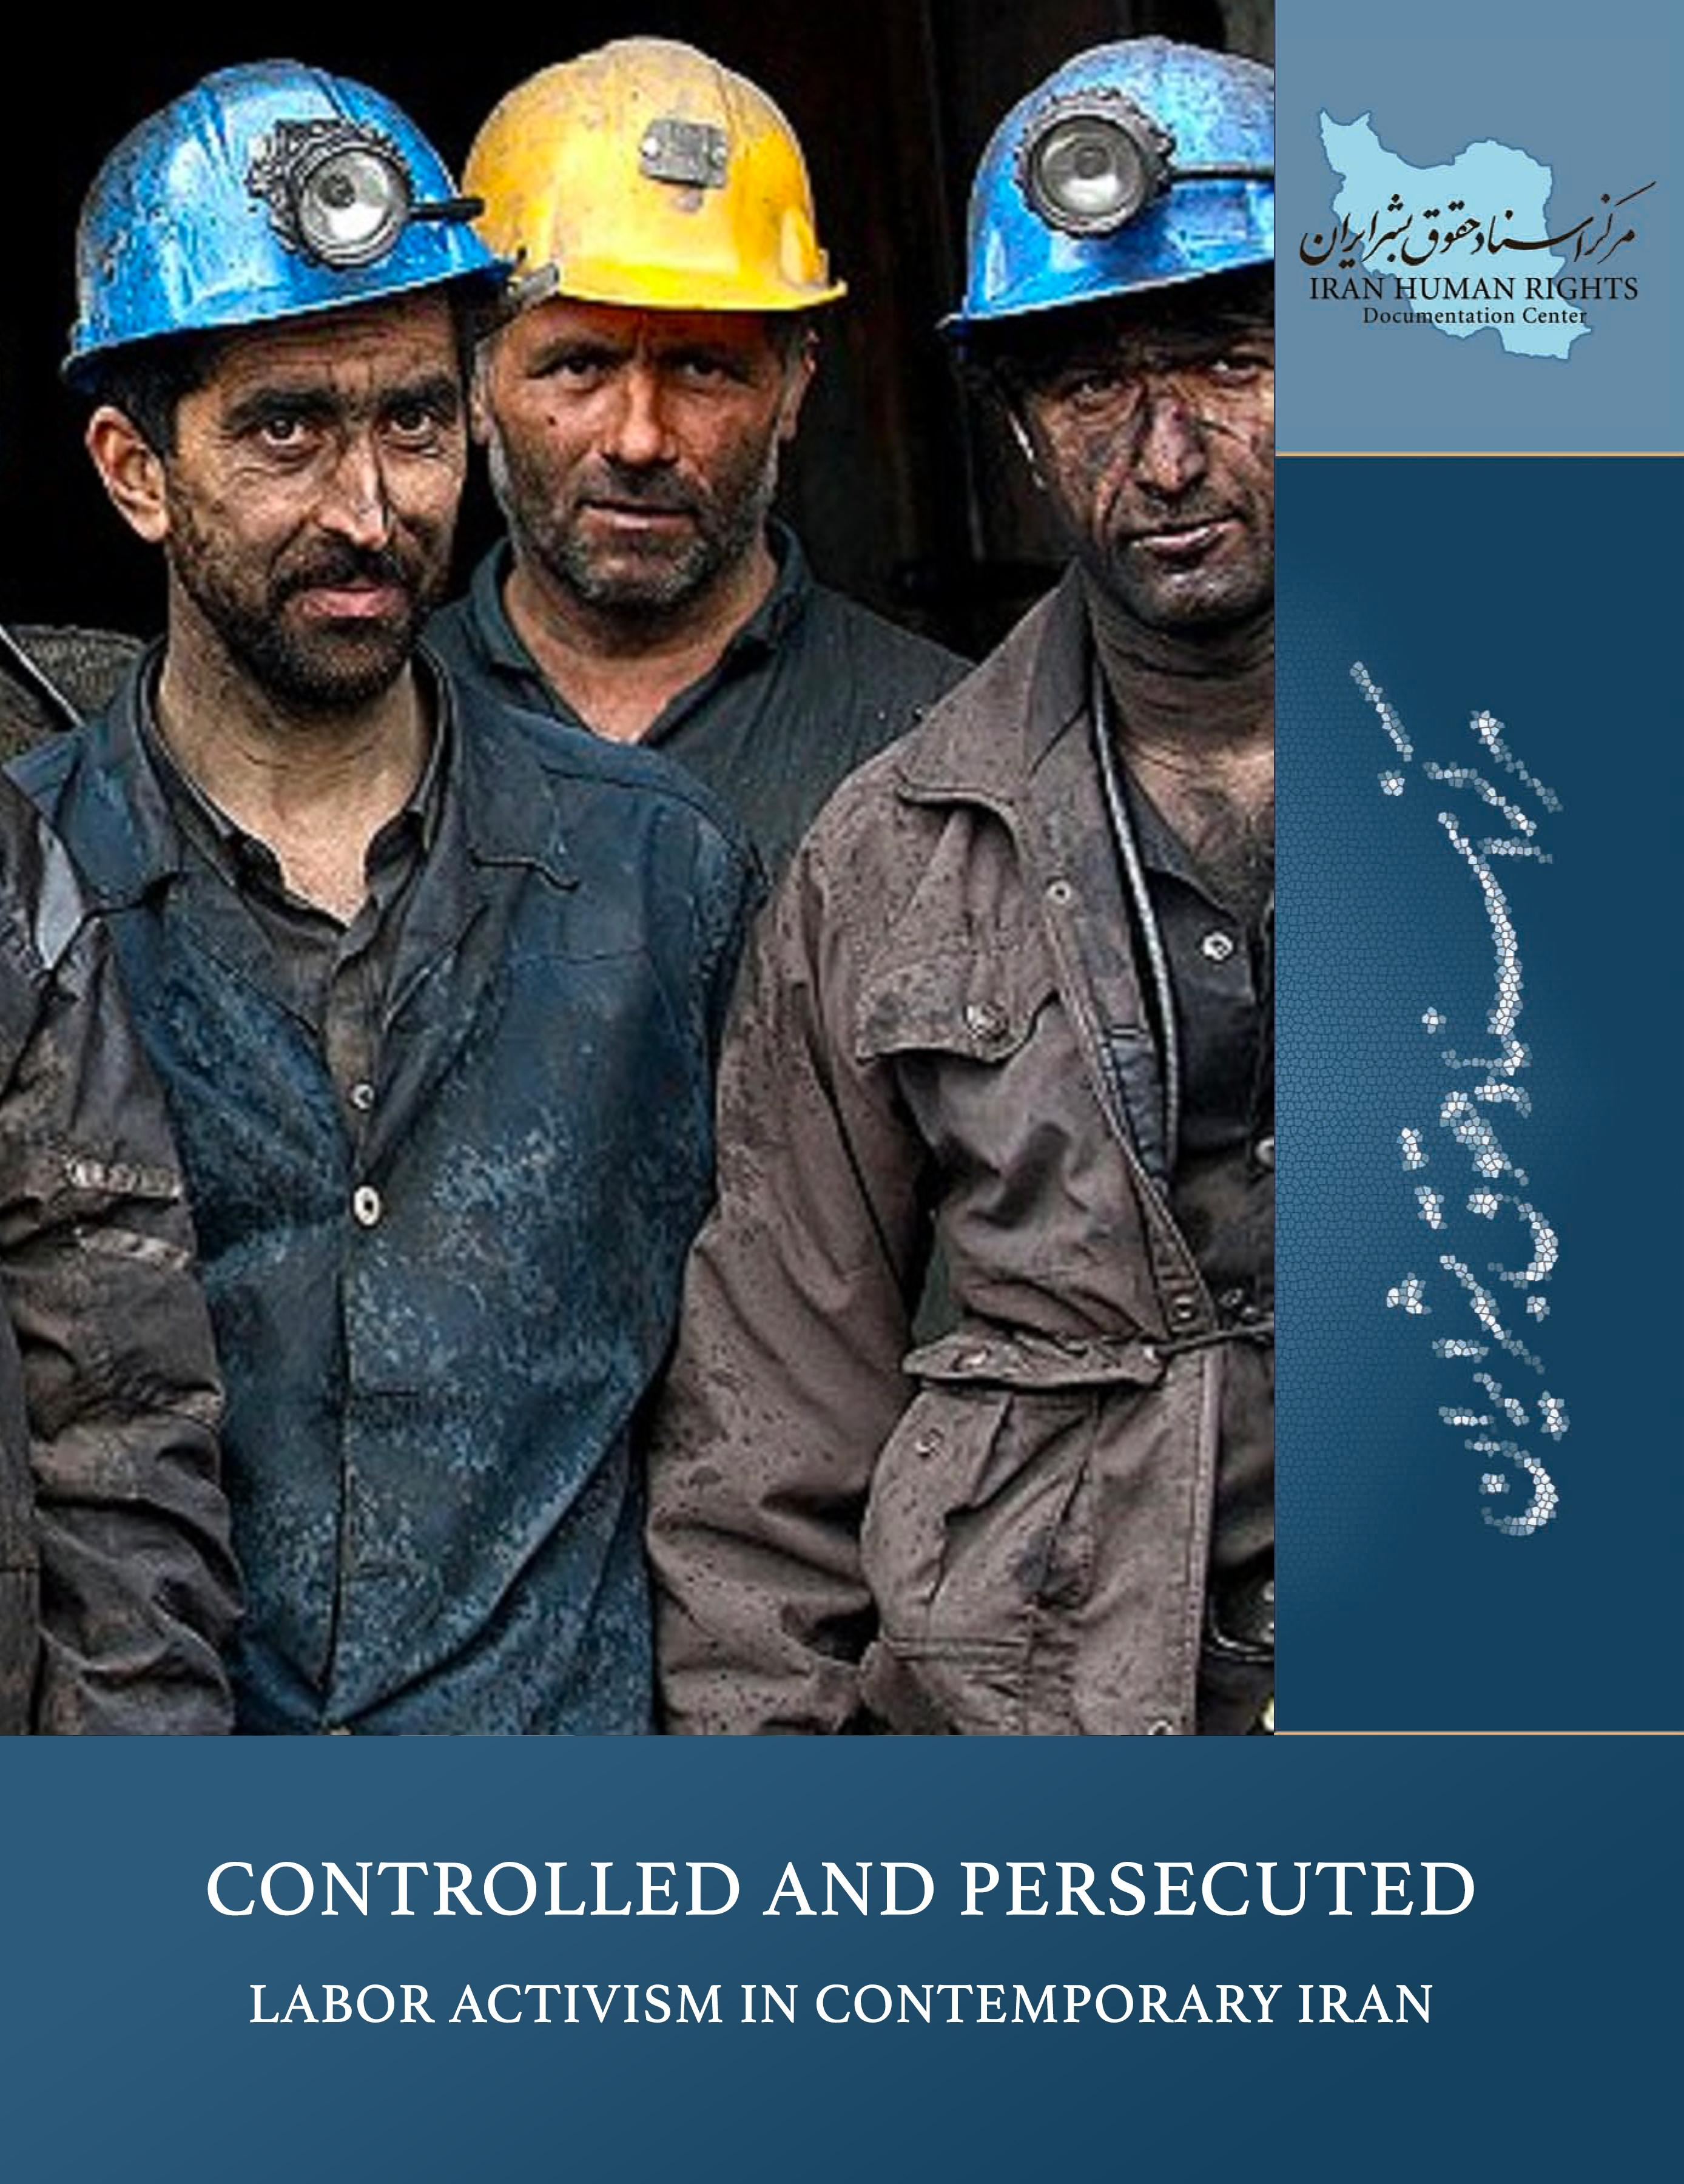helmet: (44, 57, 501, 391), (936, 32, 1290, 348), (458, 27, 838, 317)
